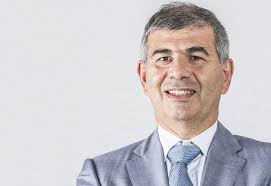middle_eastern_male: (143, 21, 230, 126)
